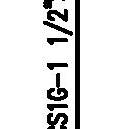verticaltext: (41, 1, 80, 129)
